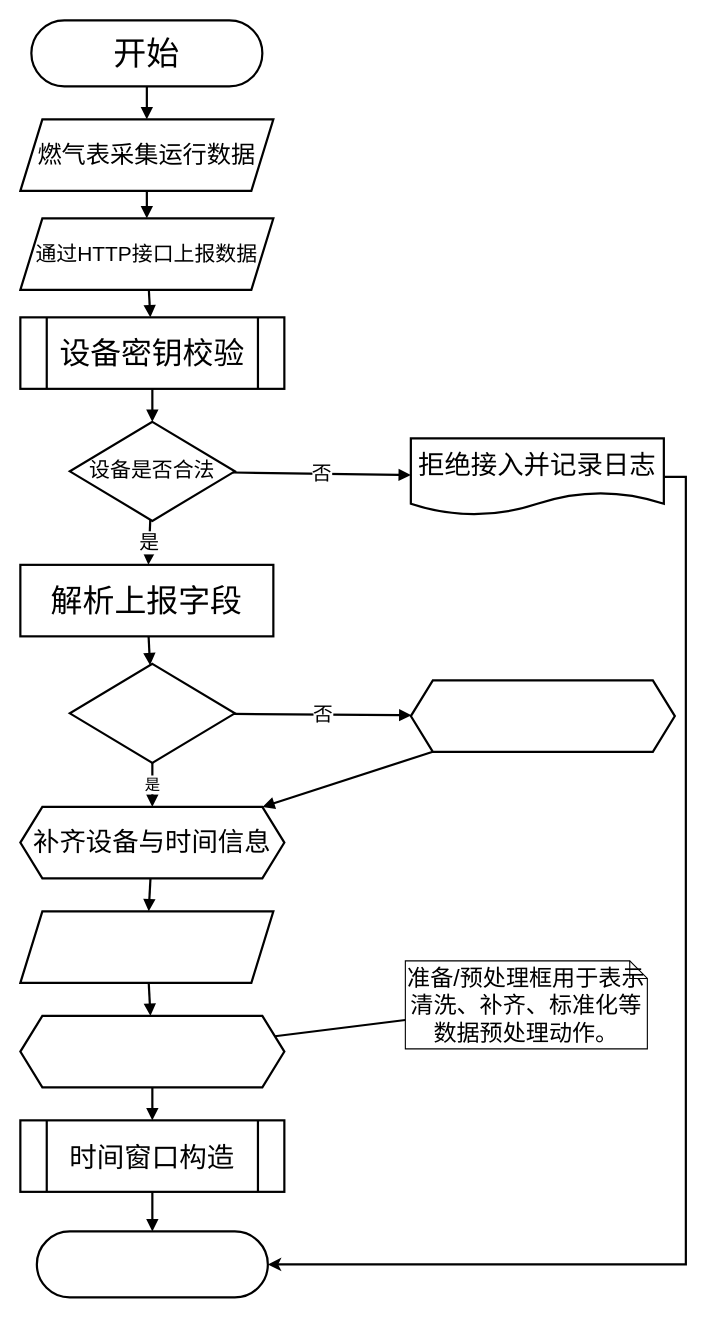
Some shapes in this 714 by 1317 pixel diagram are drawn without their labels. The centre of each missing label's shape, as x and y in pixels:
"写入原始物理数据" goes at (146,946).
"字段是否完整" goes at (151,712).
"特征标准化" goes at (152,1051).
"结束" goes at (151,1264).
"缺失值处理与格式修正" goes at (542,715).
